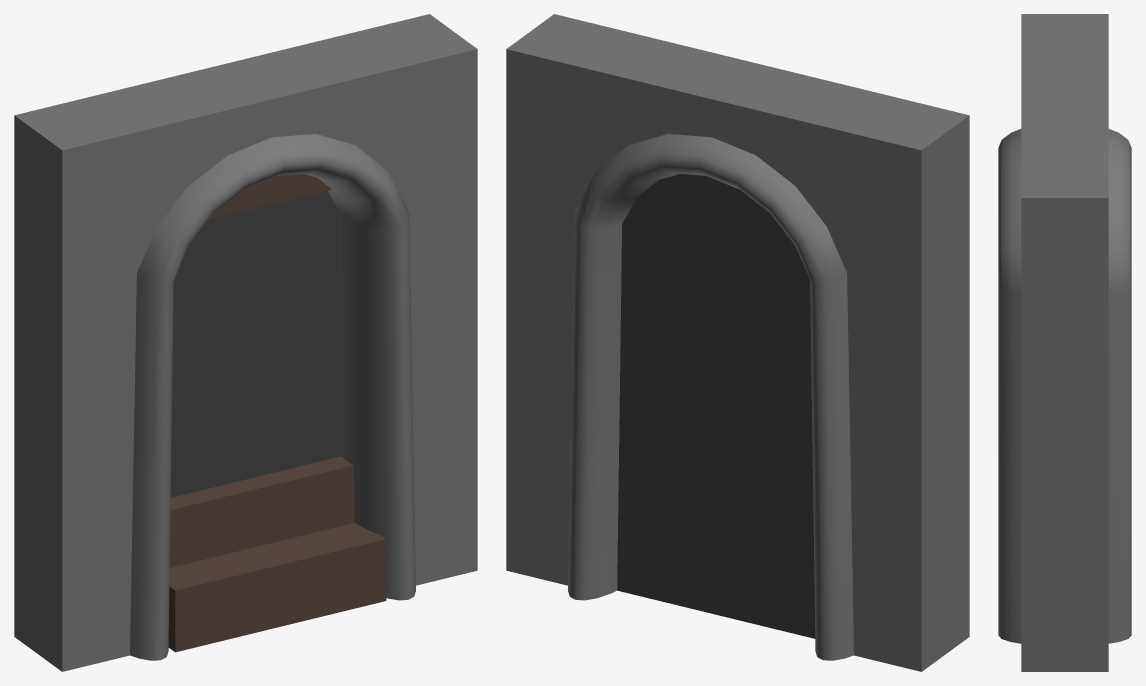
File: M_Wall_With_Arch_Closed2.fbx
3 renders of one model, left to right at view 1: azimuth 30°, elevation 25°; view 2: azimuth 150°, elevation 25°; view 3: azimuth 270°, elevation 25°, orthographic. The views are drawn at different scales.
Parts seen in each view (by area): view 1: Wall_With_Arch_Closed2, pTorus2, Wall15, Wall16, Wall18, Wall17; view 2: Wall_With_Arch_Closed2, Wall15, pTorus2; view 3: Wall_With_Arch_Closed2, pTorus2.
Part boxes in pixels (bbox=[...]): Wall_With_Arch_Closed2: bbox=[14, 14, 477, 671]; pTorus2: bbox=[130, 134, 415, 660]; Wall15: bbox=[170, 191, 341, 497]; Wall16: bbox=[168, 523, 386, 652]; Wall18: bbox=[169, 456, 354, 567]; Wall17: bbox=[209, 174, 331, 219]; Wall_With_Arch_Closed2: bbox=[506, 14, 969, 671]; Wall15: bbox=[617, 174, 815, 638]; pTorus2: bbox=[568, 134, 853, 660]; Wall_With_Arch_Closed2: bbox=[1021, 14, 1108, 671]; pTorus2: bbox=[998, 129, 1131, 643].
Size of the model in its own units: 500 by 600 by 153.
